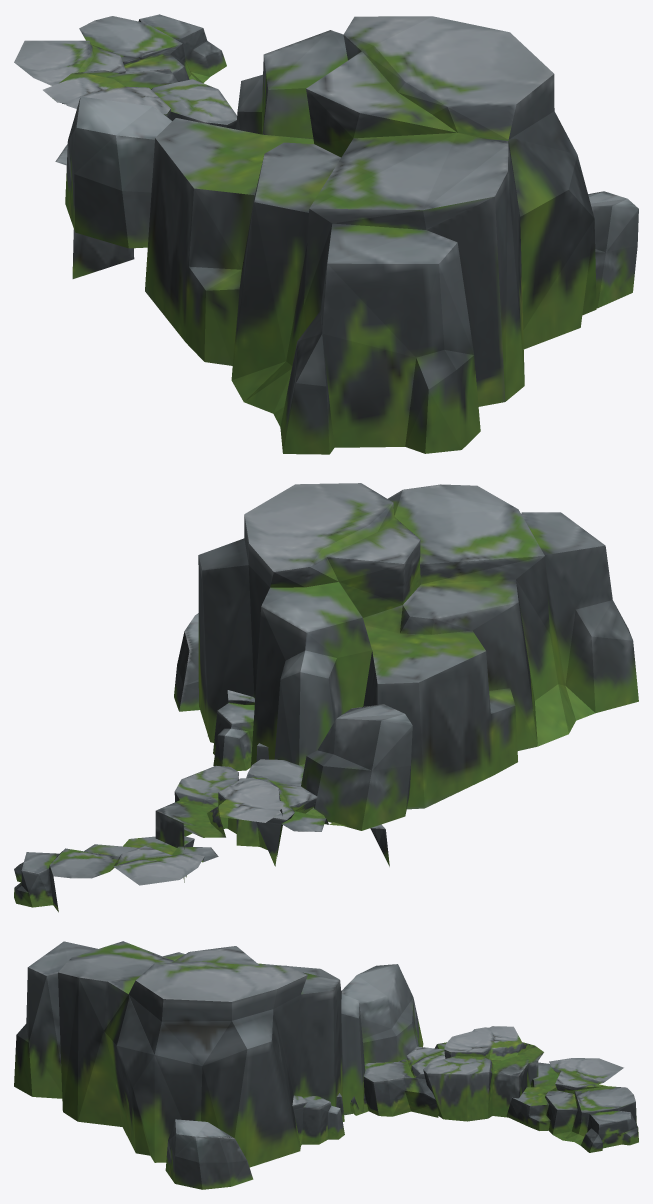
File: Area06_16_y.FBX
The picture shows the model from 3 angles, top to bottom: view 1: azimuth 30°, elevation 25°; view 2: azimuth 150°, elevation 25°; view 3: azimuth 270°, elevation 25°; orthographic projection. The views are drawn at different scales.
Parts seen in each view (by area): view 1: Area06_16_y; view 2: Area06_16_y; view 3: Area06_16_y.
Boxes of the visible parts, x1,y1,x2,y2 form: Area06_16_y: [14, 14, 638, 454]; Area06_16_y: [14, 483, 638, 912]; Area06_16_y: [14, 941, 638, 1189].
Size of the model in its own units: 3681 by 2061 by 6872.
Materials: 1 (1 with a texture image).
